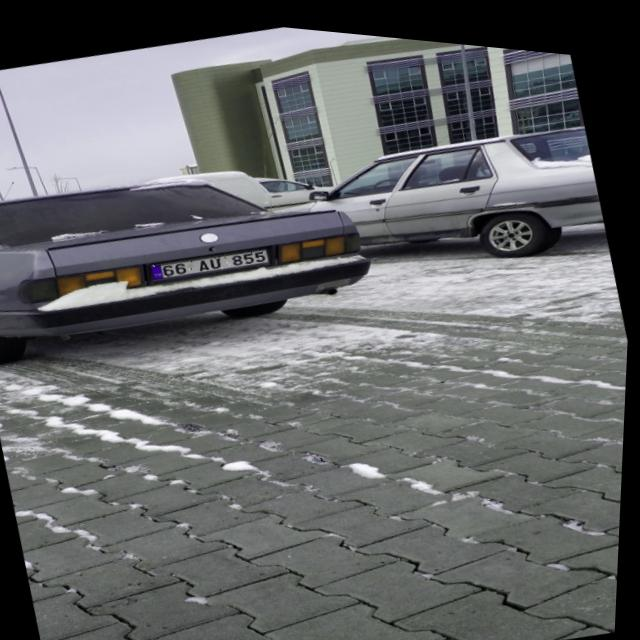license_plate: (149, 233, 273, 286)
